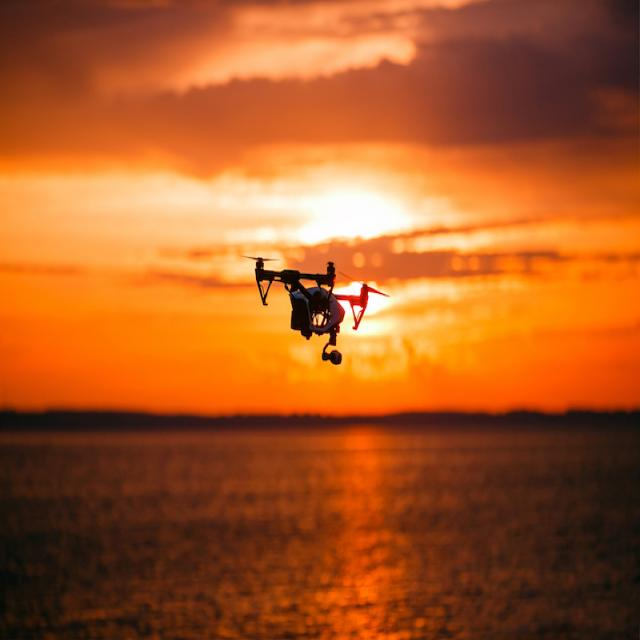drone: (238, 247, 394, 370)
